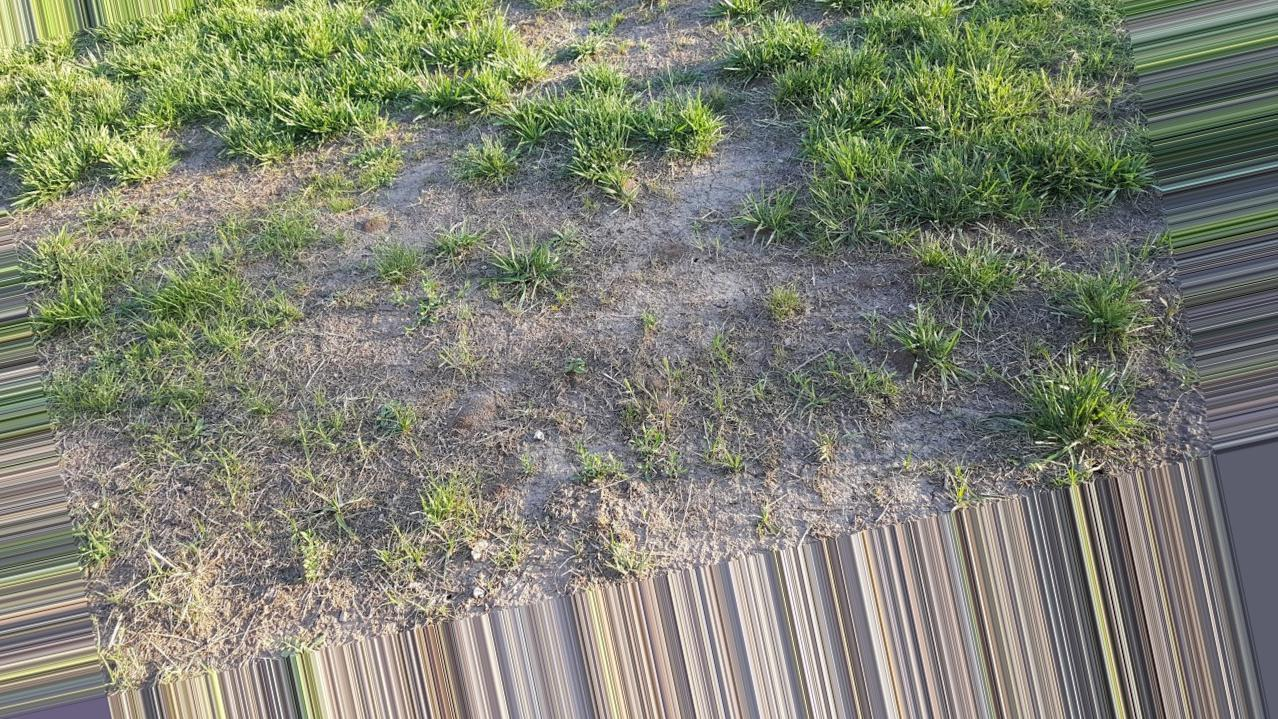patch: (40, 203, 859, 501), (100, 499, 485, 611)
